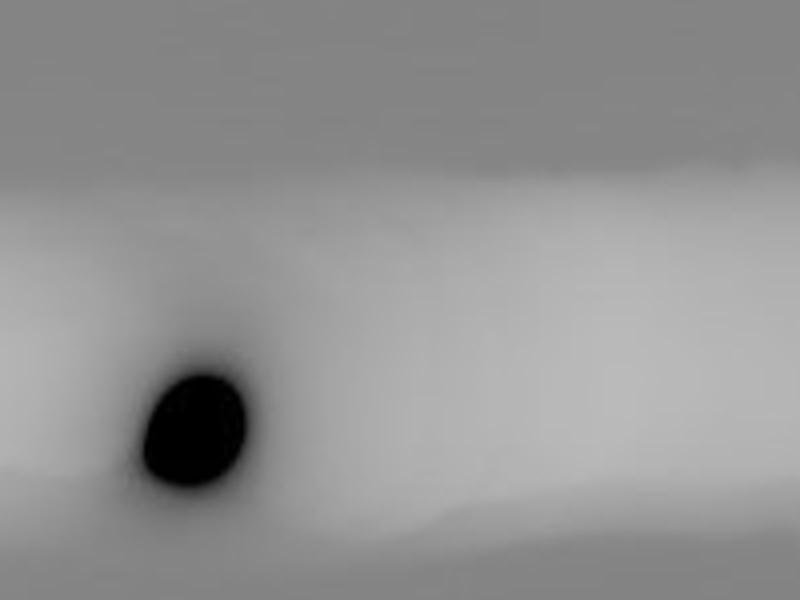defect: (141, 371, 249, 494)
